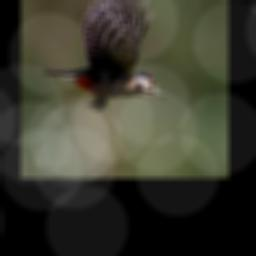Woodpecker: (44, 0, 170, 109)
